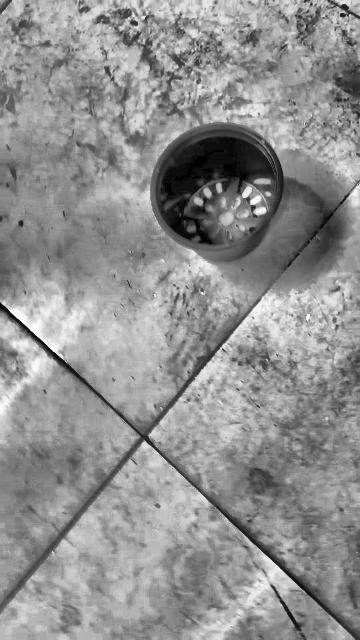pot: (150, 124, 283, 261)
